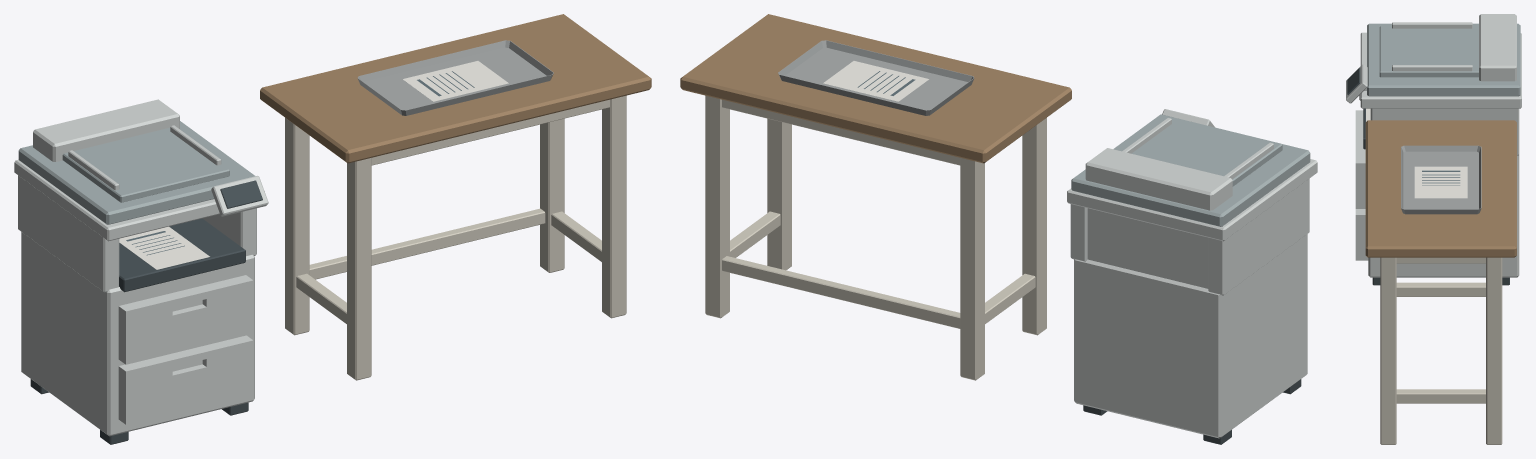
The picture shows the model from 3 angles, left to right: view 1: azimuth 30°, elevation 25°; view 2: azimuth 150°, elevation 25°; view 3: azimuth 270°, elevation 25°; orthographic projection. The views are drawn at different scales.
Visible parts, largest first — view 1: document_staging_table__Complete work surface, standing_copier__Lower floorstanding body, standing_copier__Upper paper cassette with grip recess, standing_copier__Lower paper cassette with grip recess, standing_copier__Document feed tray, original_metal_staging_tray__Shallow baking tray, standing_copier__Scanner cover, standing_copier__Output cavity side support, document_staging_table__Worktable leg, document_staging_table__Worktable leg.002, document_staging_table__Worktable leg.001, standing_copier__Rear feeder housing (+12 smaller); view 2: standing_copier__Lower floorstanding body, document_staging_table__Complete work surface, standing_copier__Output cavity rear support, original_metal_staging_tray__Shallow baking tray, standing_copier__Output cavity side support, document_staging_table__Worktable leg.001, standing_copier__Scanner cover, document_staging_table__Worktable leg.003, standing_copier__Rear feeder housing, document_staging_table__Worktable leg, standing_copier__Document feed tray, document_staging_table__Rear lower brace (+7 smaller); view 3: document_staging_table__Complete work surface, standing_copier__Document feed tray, original_metal_staging_tray__Shallow baking tray, standing_copier__Scanner cover, document_staging_table__Worktable leg.002, document_staging_table__Worktable leg.003, standing_copier__Rear feeder housing, standing_copier__Scanner deck, standing_copier__Lower floorstanding body, standing_copier__Output cavity side support.001, AUTHORED_A4__staged_document, document_staging_table__Side lower stretcher.001 (+8 smaller).
Boxes of the visible parts, box(x1,y1,x2,y2) form: document_staging_table__Complete work surface: box(260, 14, 651, 163); standing_copier__Lower floorstanding body: box(21, 232, 254, 436); standing_copier__Upper paper cassette with grip recess: box(118, 275, 253, 364); standing_copier__Lower paper cassette with grip recess: box(118, 335, 253, 424); standing_copier__Document feed tray: box(62, 127, 229, 202); original_metal_staging_tray__Shallow baking tray: box(357, 40, 553, 115); standing_copier__Scanner cover: box(18, 121, 255, 224); standing_copier__Output cavity side support: box(18, 175, 119, 292); document_staging_table__Worktable leg: box(347, 158, 371, 380); document_staging_table__Worktable leg.002: box(602, 95, 626, 318); document_staging_table__Worktable leg.001: box(285, 118, 309, 335); standing_copier__Rear feeder housing: box(33, 99, 179, 161); standing_copier__Lower floorstanding body: box(1074, 234, 1307, 438); document_staging_table__Complete work surface: box(680, 14, 1071, 163); standing_copier__Output cavity rear support: box(1087, 208, 1208, 288); original_metal_staging_tray__Shallow baking tray: box(778, 40, 974, 115); standing_copier__Output cavity side support: box(1208, 178, 1309, 295); document_staging_table__Worktable leg.001: box(960, 158, 984, 380); standing_copier__Scanner cover: box(1071, 114, 1310, 226); document_staging_table__Worktable leg.003: box(705, 95, 729, 318); standing_copier__Rear feeder housing: box(1085, 148, 1232, 210); document_staging_table__Worktable leg: box(1022, 118, 1046, 335); standing_copier__Document feed tray: box(1131, 117, 1282, 186); document_staging_table__Rear lower brace: box(722, 256, 960, 328); document_staging_table__Complete work surface: box(1365, 120, 1516, 257); standing_copier__Document feed tray: box(1379, 26, 1478, 77); original_metal_staging_tray__Shallow baking tray: box(1401, 145, 1481, 214); standing_copier__Scanner cover: box(1367, 23, 1520, 96); document_staging_table__Worktable leg.002: box(1380, 257, 1396, 444); document_staging_table__Worktable leg.003: box(1486, 257, 1502, 444); standing_copier__Rear feeder housing: box(1479, 14, 1516, 81); standing_copier__Scanner deck: box(1360, 32, 1521, 108); standing_copier__Lower floorstanding body: box(1368, 155, 1519, 277); standing_copier__Output cavity side support.001: box(1370, 108, 1519, 155); AUTHORED_A4__staged_document: box(1414, 166, 1467, 198); document_staging_table__Side lower stretcher.001: box(1396, 389, 1485, 403).
Size of the model in its own units: 2.15 by 0.95 by 0.6979.
